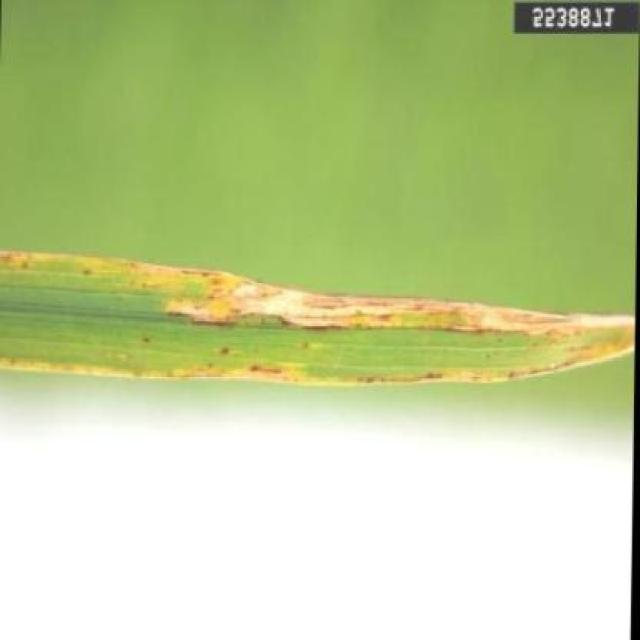Brown_Spot: (40, 234, 631, 397)
